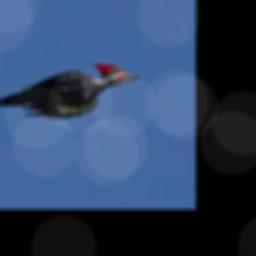Woodpecker: (0, 62, 141, 117)
